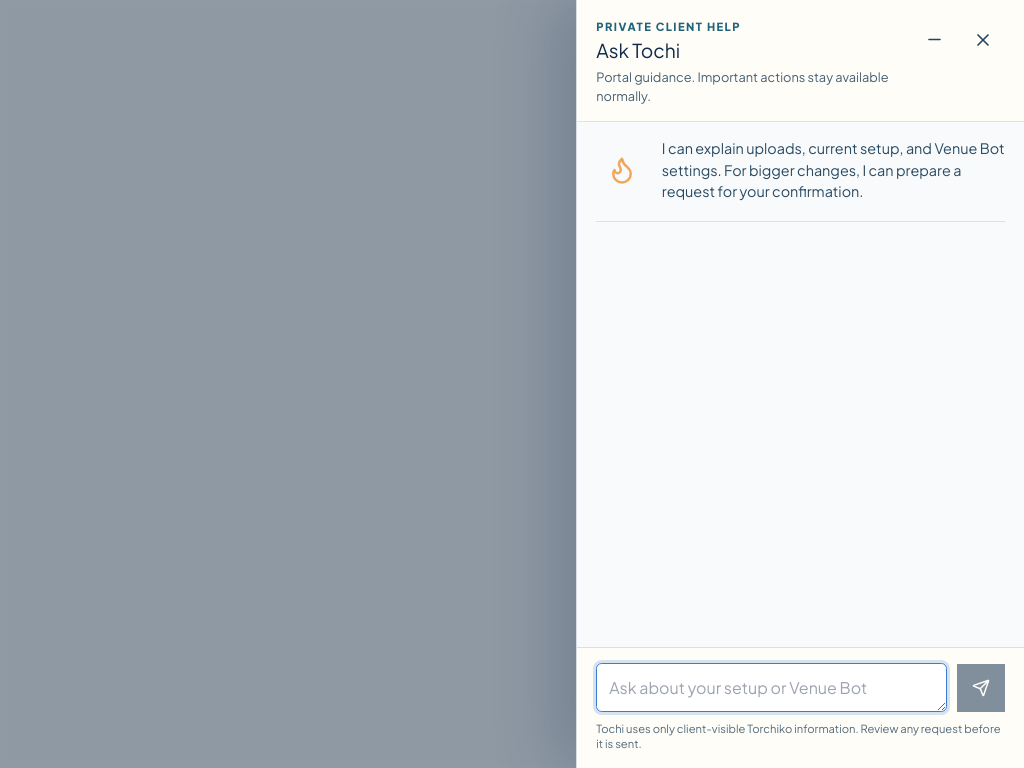
Test case: ClientTochiPanel › previews a handoff and does not submit until the client confirms
In the text box named "Message Tochi": (772, 687) [596, 663, 947, 712], type "Add POS ticket purchasing."
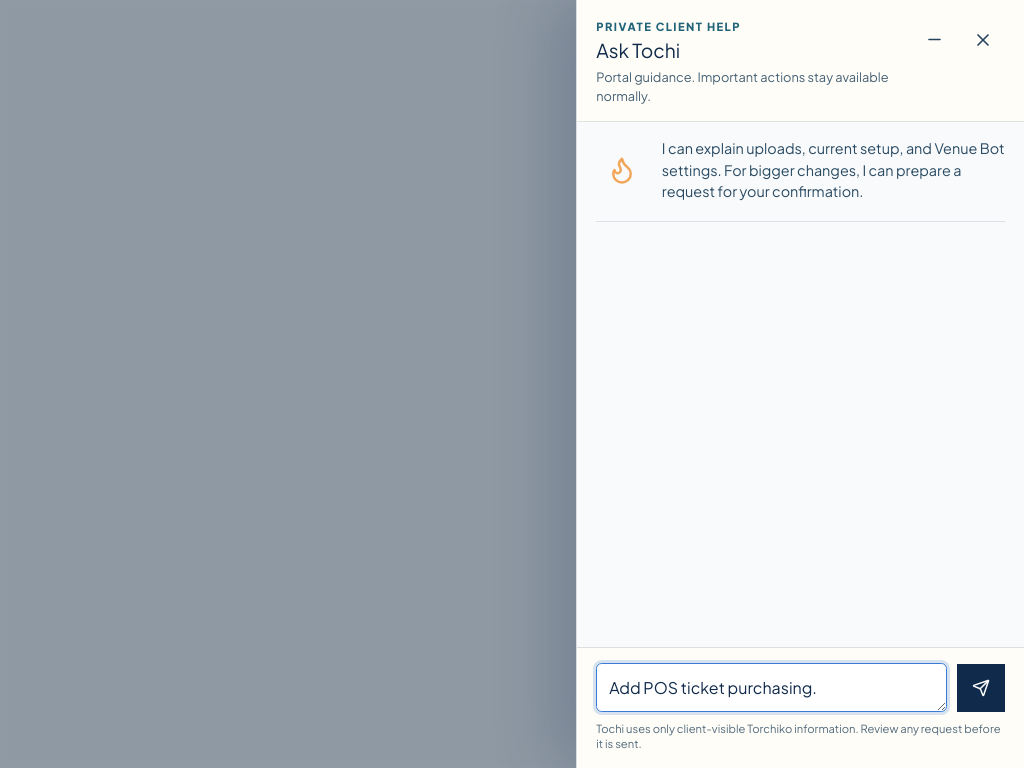
Click the button named "Send message": (981, 688) [957, 664, 1005, 712]
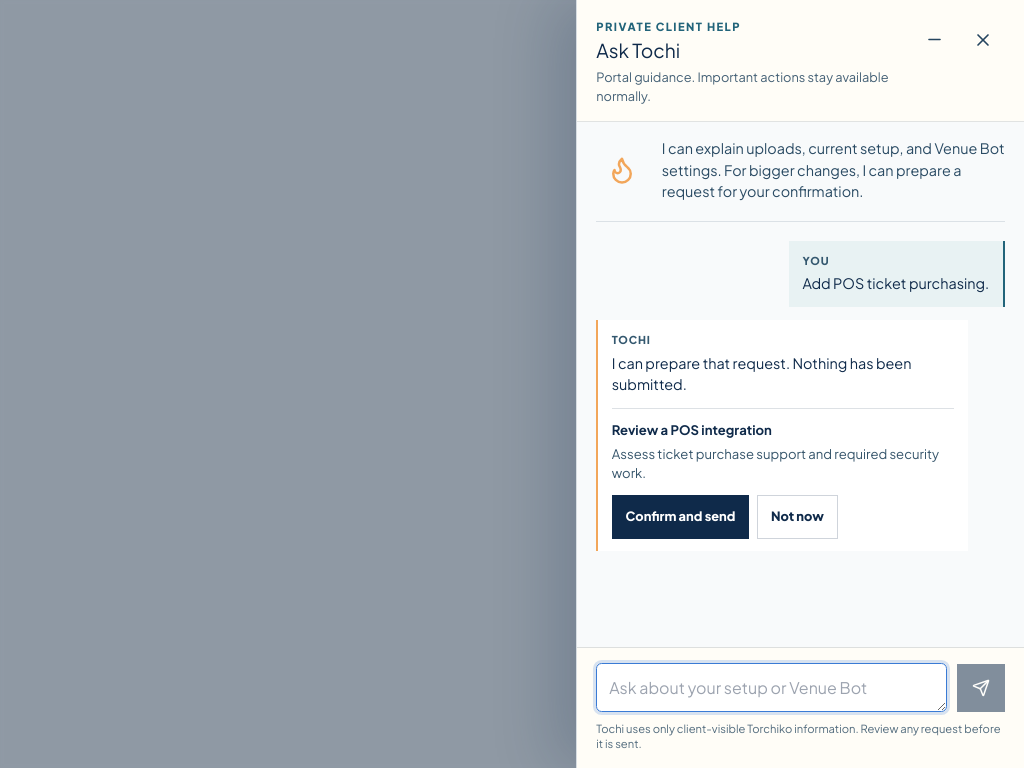
Expected: the element named "Request preview" is shown, [612, 408, 954, 539]
Click the button "Confirm and send": (680, 517) [612, 495, 749, 539]
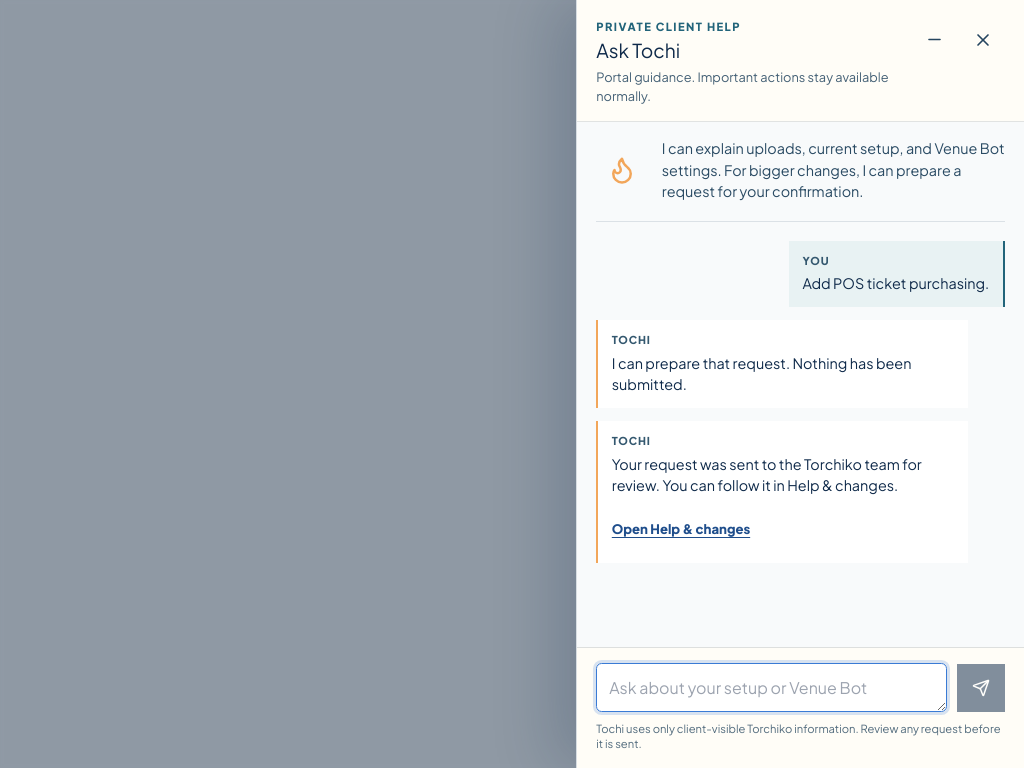
Expected: the list item "sent to the Torchiko team for review" is shown, [612, 455, 924, 494]
